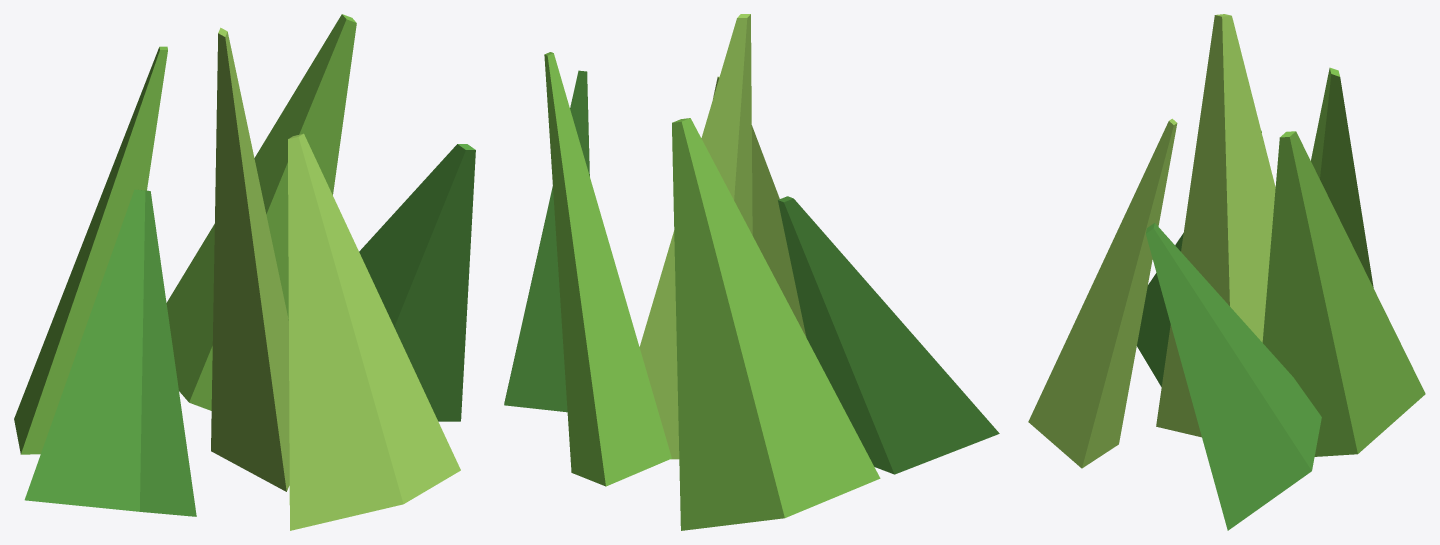
File: broadleaf-tuft.glb
3 views of the same model, side by side, from view 1: azimuth 30°, elevation 25°; view 2: azimuth 150°, elevation 25°; view 3: azimuth 270°, elevation 25° (orthographic). The views are drawn at different scales.
Visible parts, largest first — view 1: Broad blade 6, Broad blade 1, Broad blade 3, Broad blade 5, Broad blade 4, Broad blade 2; view 2: Broad blade 2, Broad blade 4, Broad blade 1, Broad blade 3, Broad blade 5, Broad blade 6; view 3: Broad blade 4, Broad blade 5, Broad blade 3, Broad blade 6, Broad blade 2, Broad blade 1.
Part boxes in pixels (<box>): Broad blade 6: <box>288,133,460,530</box>; Broad blade 1: <box>24,189,196,516</box>; Broad blade 3: <box>211,27,289,491</box>; Broad blade 5: <box>359,144,475,421</box>; Broad blade 4: <box>166,14,356,410</box>; Broad blade 2: <box>14,46,167,454</box>; Broad blade 2: <box>672,118,880,530</box>; Broad blade 4: <box>544,52,671,486</box>; Broad blade 1: <box>778,196,999,474</box>; Broad blade 3: <box>639,14,752,459</box>; Broad blade 5: <box>504,70,589,412</box>; Broad blade 6: <box>713,76,806,337</box>; Broad blade 4: <box>1262,131,1425,456</box>; Broad blade 5: <box>1146,223,1321,530</box>; Broad blade 3: <box>1156,14,1275,437</box>; Broad blade 6: <box>1028,118,1177,468</box>; Broad blade 2: <box>1311,67,1373,287</box>; Broad blade 1: <box>1137,130,1261,386</box>.
Bounding box in the file's own units: 0.4405 × 0.4038 × 0.3552.
